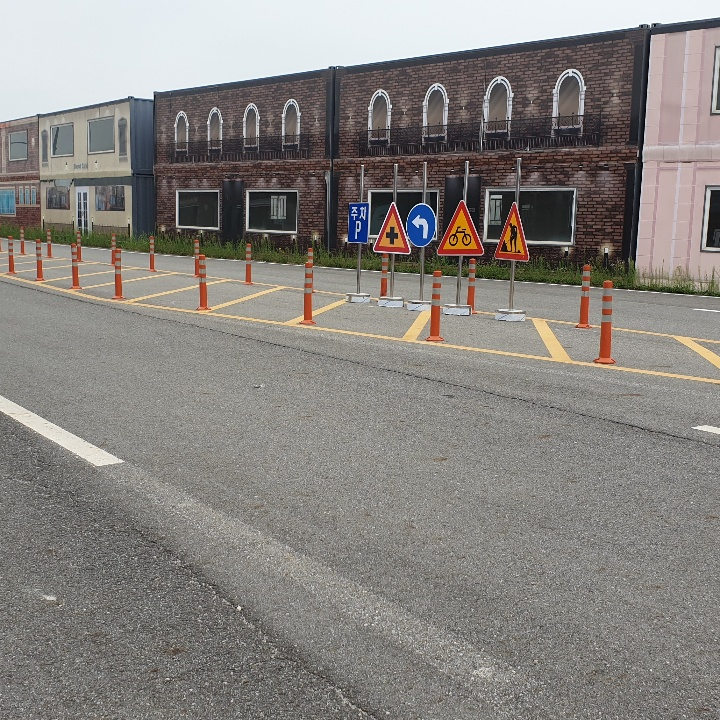bicycle: (436, 202, 481, 256)
const: (498, 218, 525, 251)
inter: (381, 225, 401, 245)
left: (406, 207, 431, 240)
parking: (346, 215, 365, 237)
